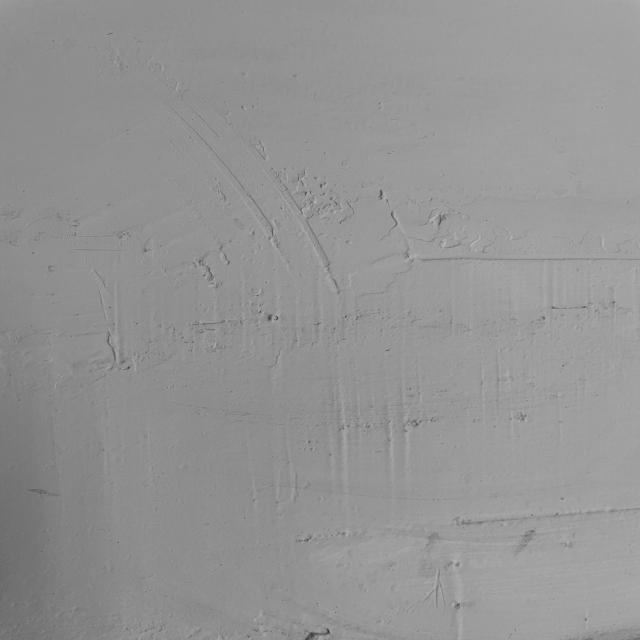rough and patchy surface: (32, 20, 628, 640)
